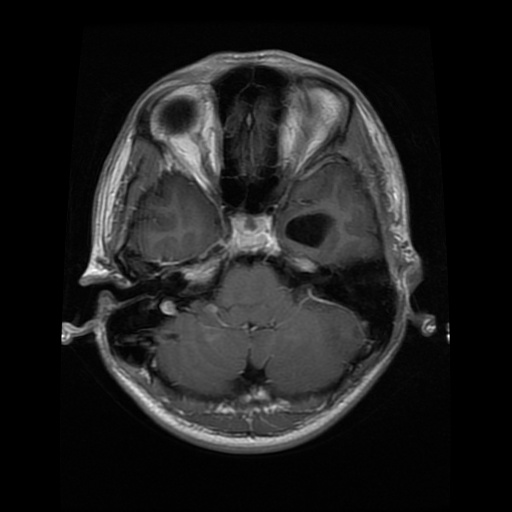glioma: (287, 211, 336, 244)
